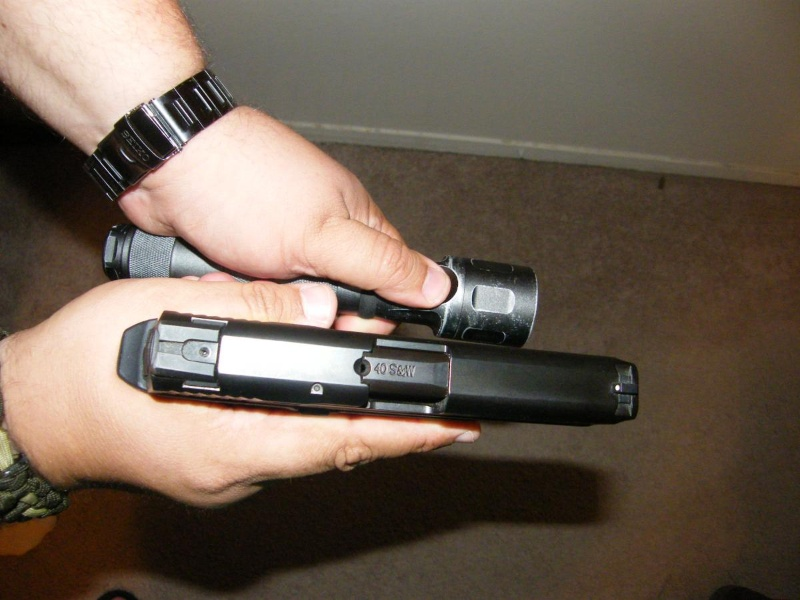gun: (103, 293, 664, 515)
